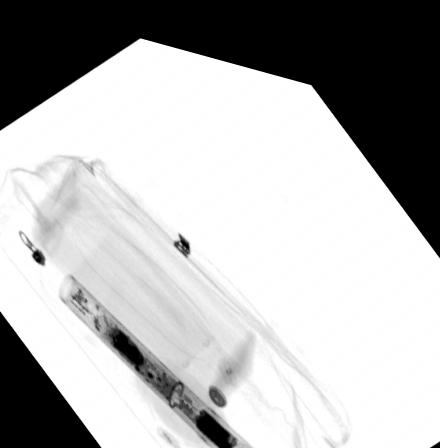Baton: (54, 267, 271, 448)
